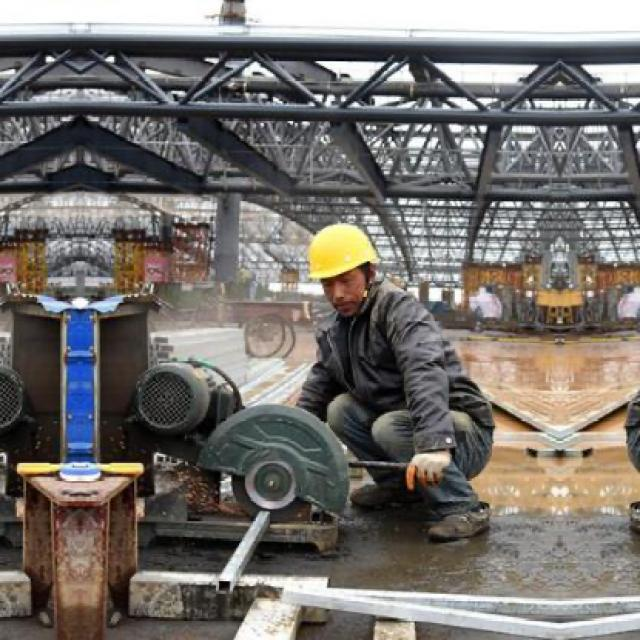helmet: (301, 218, 382, 312)
